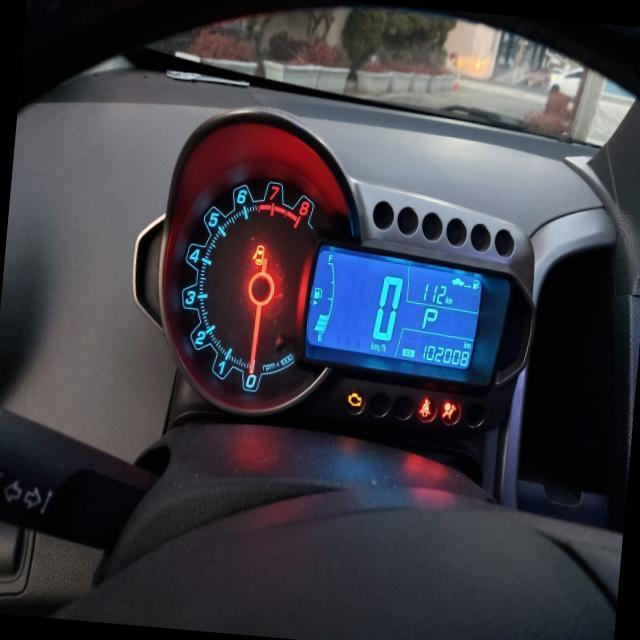Doors: (251, 243, 264, 266)
